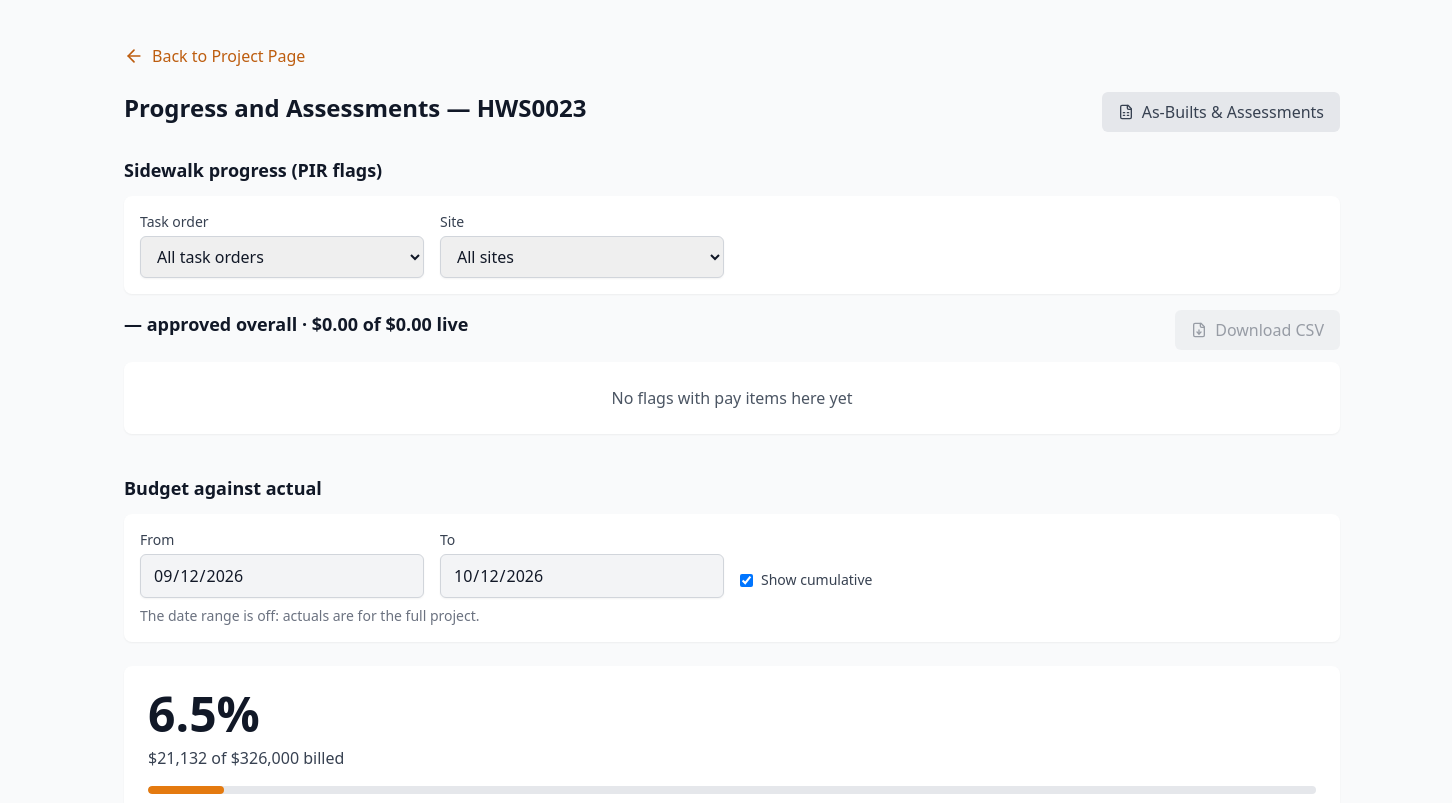
Test case: ProgressPage — first load › unticked, asks for the last 30 days, by the local calendar
Click the checkbox labelled "Show cumulative": click(746, 580) x1=740 y1=574 x2=753 y2=586
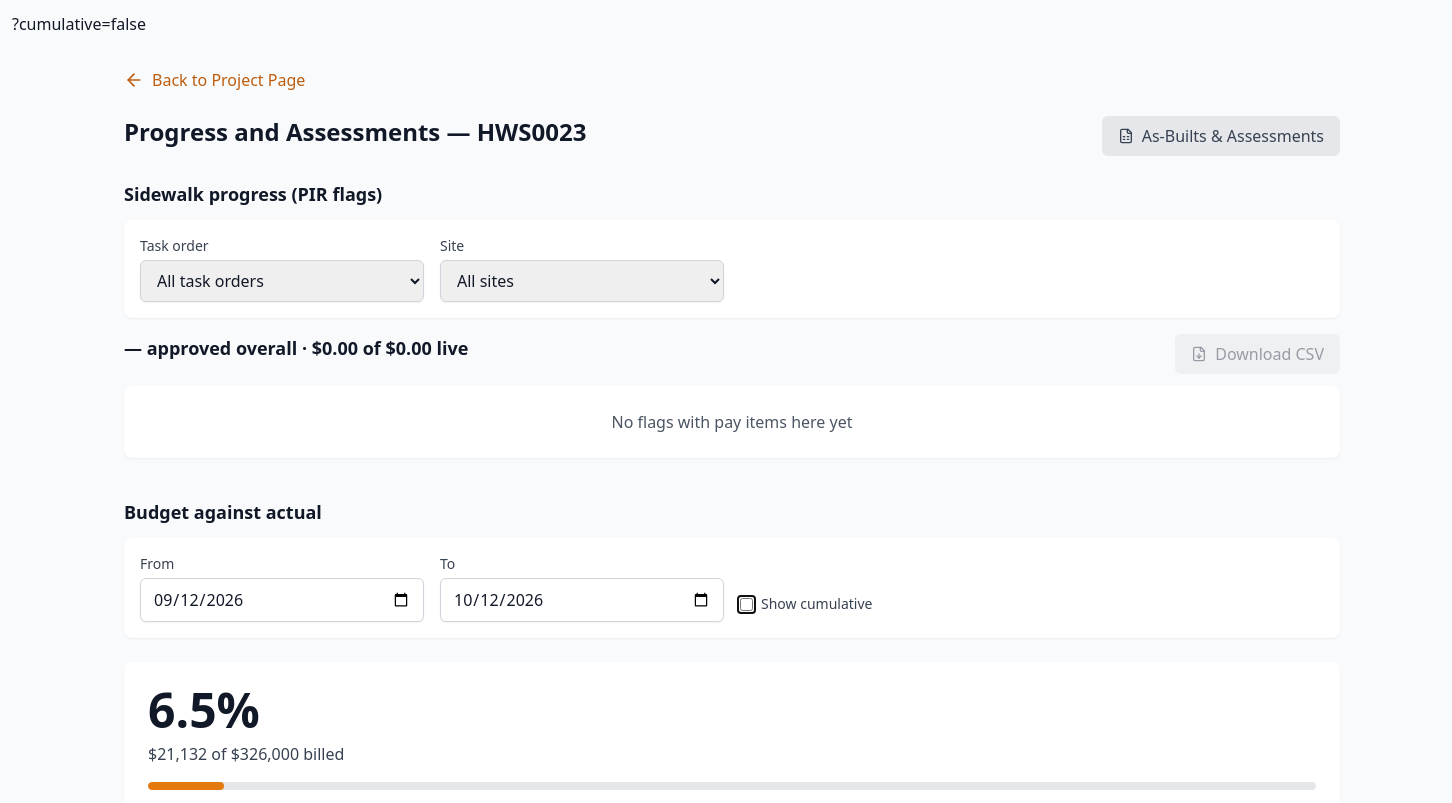
expect the date field labelled "From" holds "2026-09-12": met, box x1=140 y1=578 x2=424 y2=622
expect the text with test id "progress-url" reads "?cumulative=false": met, box x1=12 y1=13 x2=146 y2=35
expect the date field labelled "From" is enabled: met, box x1=140 y1=578 x2=424 y2=622
